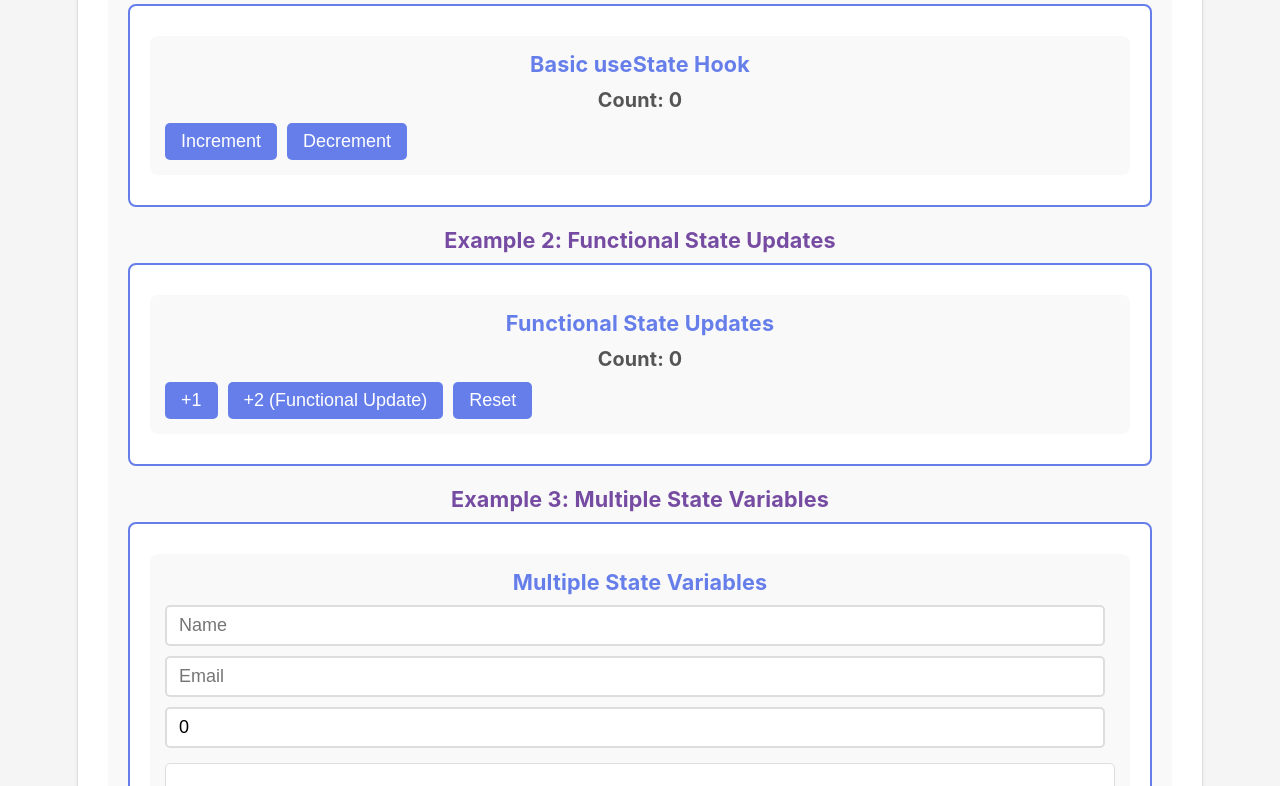
Test case: StateManagementDemo › resets functional update counter
The width and height of the screenshot is (1280, 786).
(page scrolled)
// Increment first
Click the button "+2 (Functional Update)": (335, 401) left=228, top=382, right=443, bottom=419
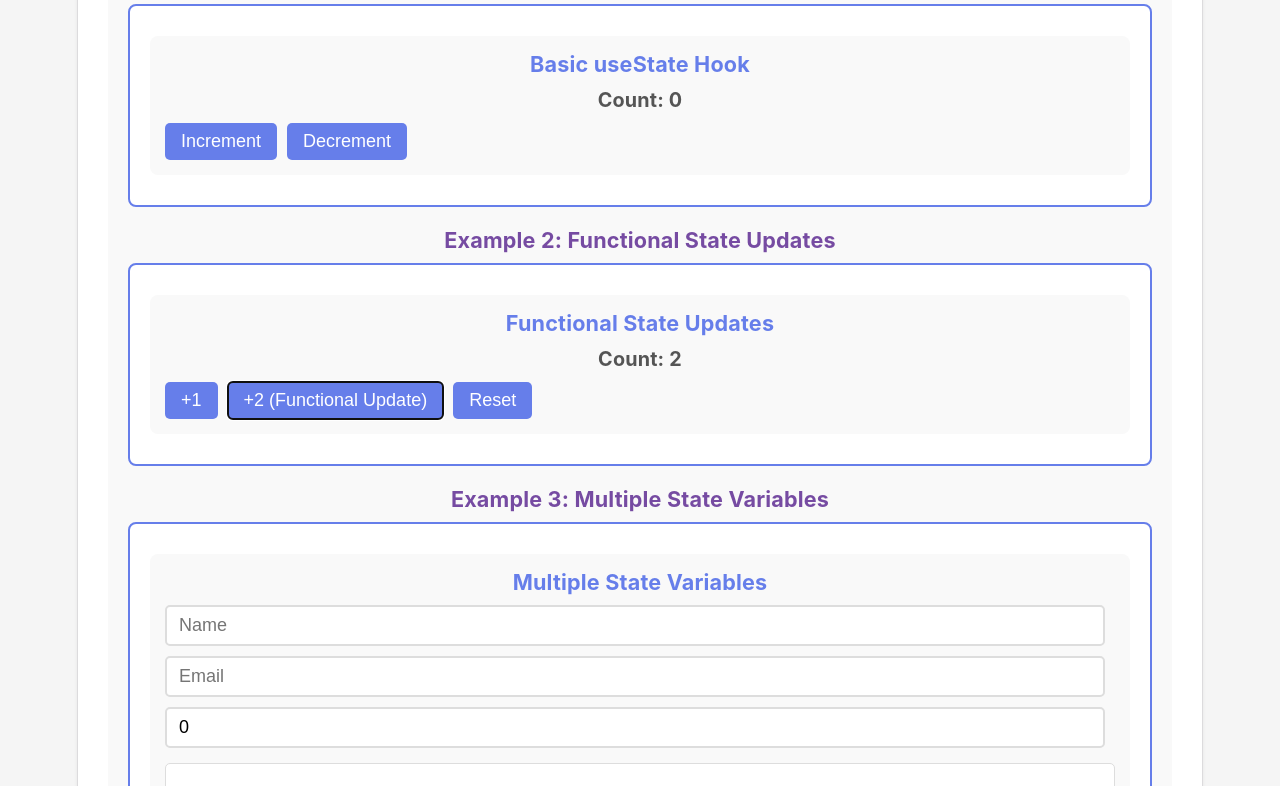
// The reset button for functional updates is the second one
Click the button "Reset": (493, 401) left=453, top=382, right=532, bottom=419
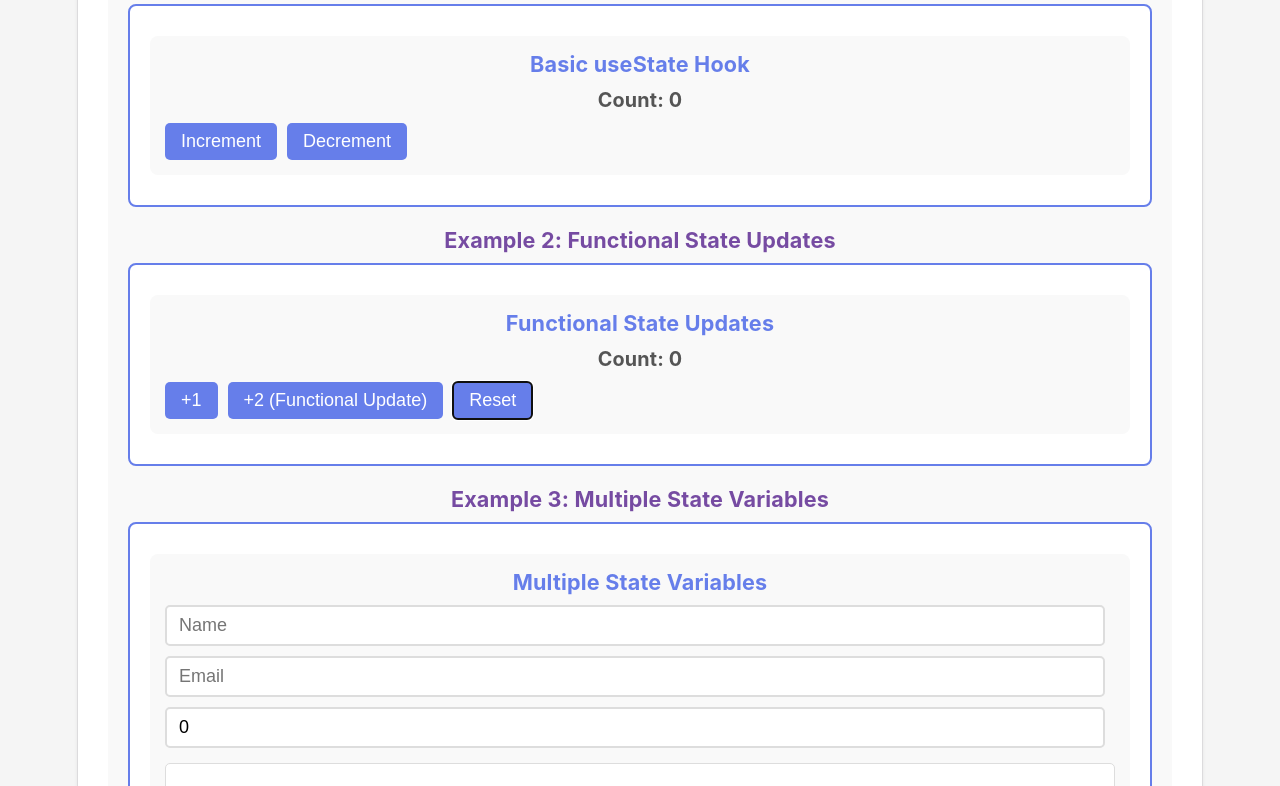
Check: the text "Count: 0" below "Example 2: Functional State Updates" is shown, box left=598, top=347, right=682, bottom=371
